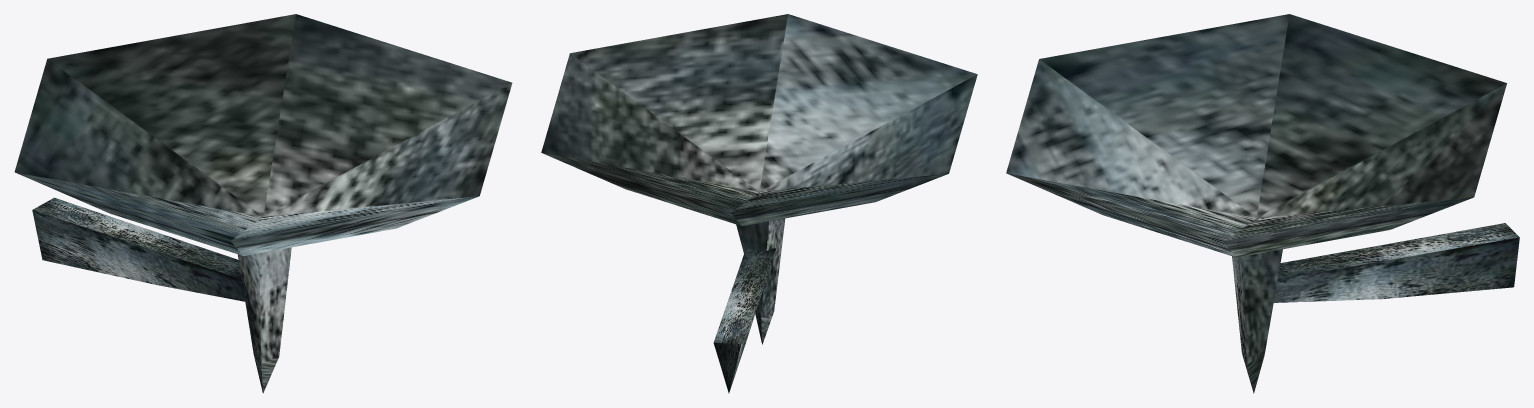
The picture shows the model from 3 angles, left to right: view 1: azimuth 30°, elevation 25°; view 2: azimuth 150°, elevation 25°; view 3: azimuth 270°, elevation 25°; orthographic projection. The views are drawn at different scales.
Visible parts, largest first — view 1: Hp46; view 2: Hp46; view 3: Hp46.
Part boxes in pixels (bbox=[...]): Hp46: bbox=[14, 14, 512, 393]; Hp46: bbox=[541, 14, 977, 393]; Hp46: bbox=[1006, 14, 1519, 393].
Size of the model in its own units: 29.32 by 15.96 by 27.87.
